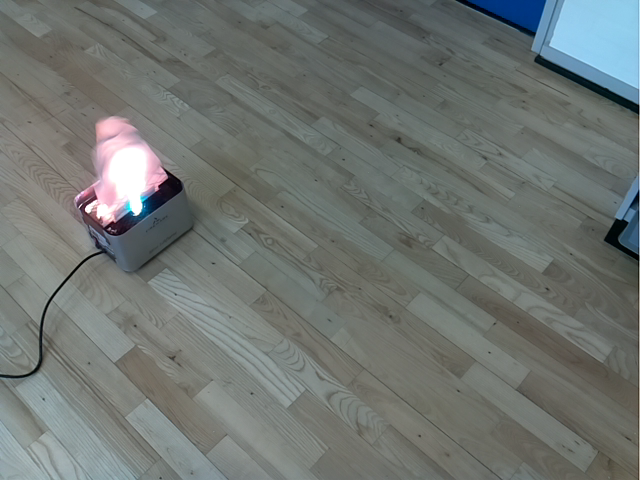fire: (92, 115, 168, 227)
